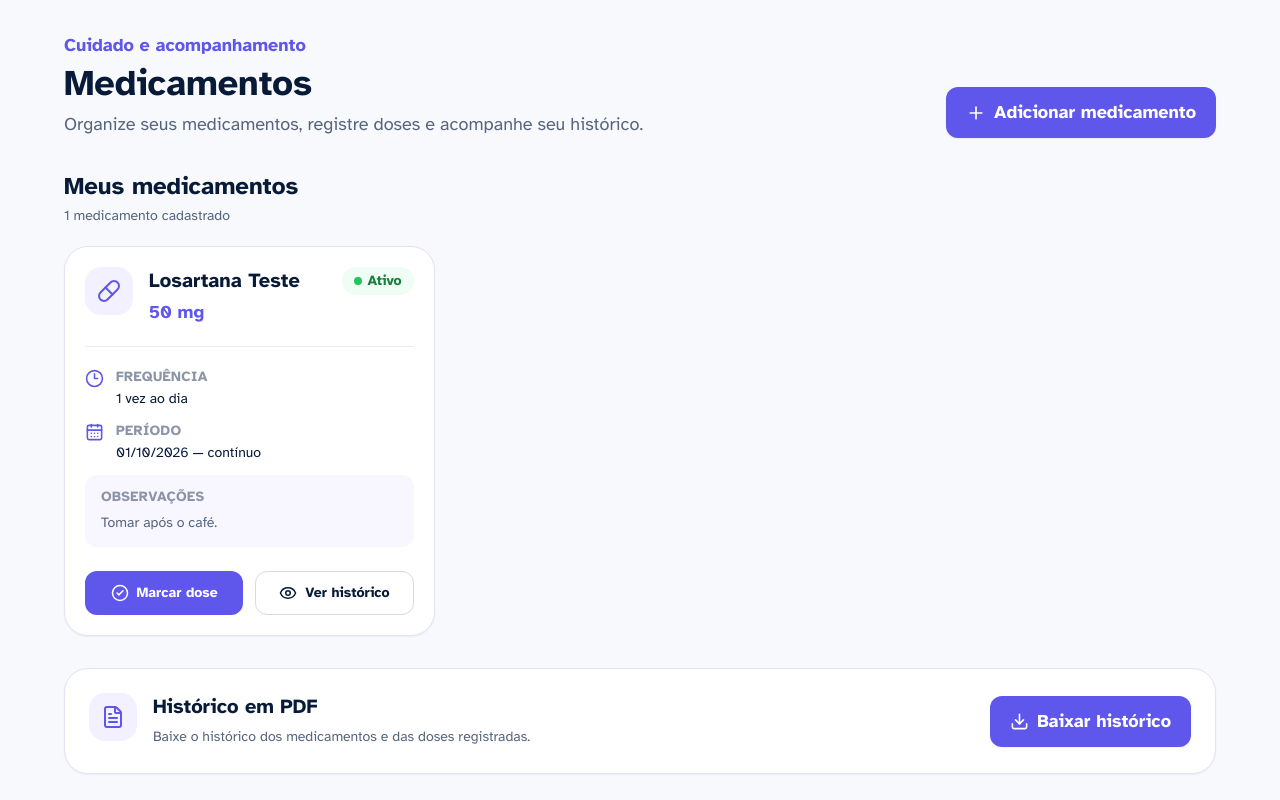
Test: Remedios - marcar dose › mantém a confirmação da dose na tela até a pessoa concluir
Click the button "Marcar dose": (164, 593) [85,571,243,615]
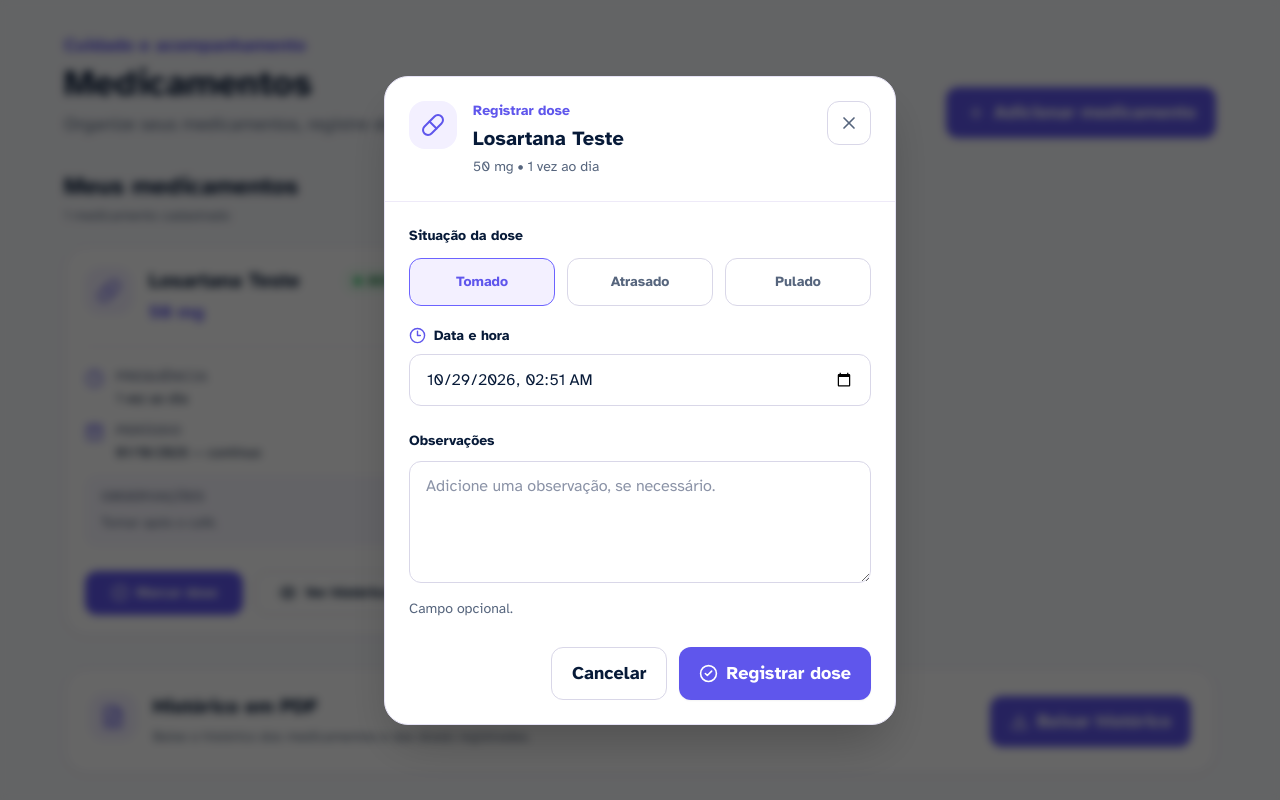
Click the button "Registrar dose": (775, 673) [680,646,871,700]
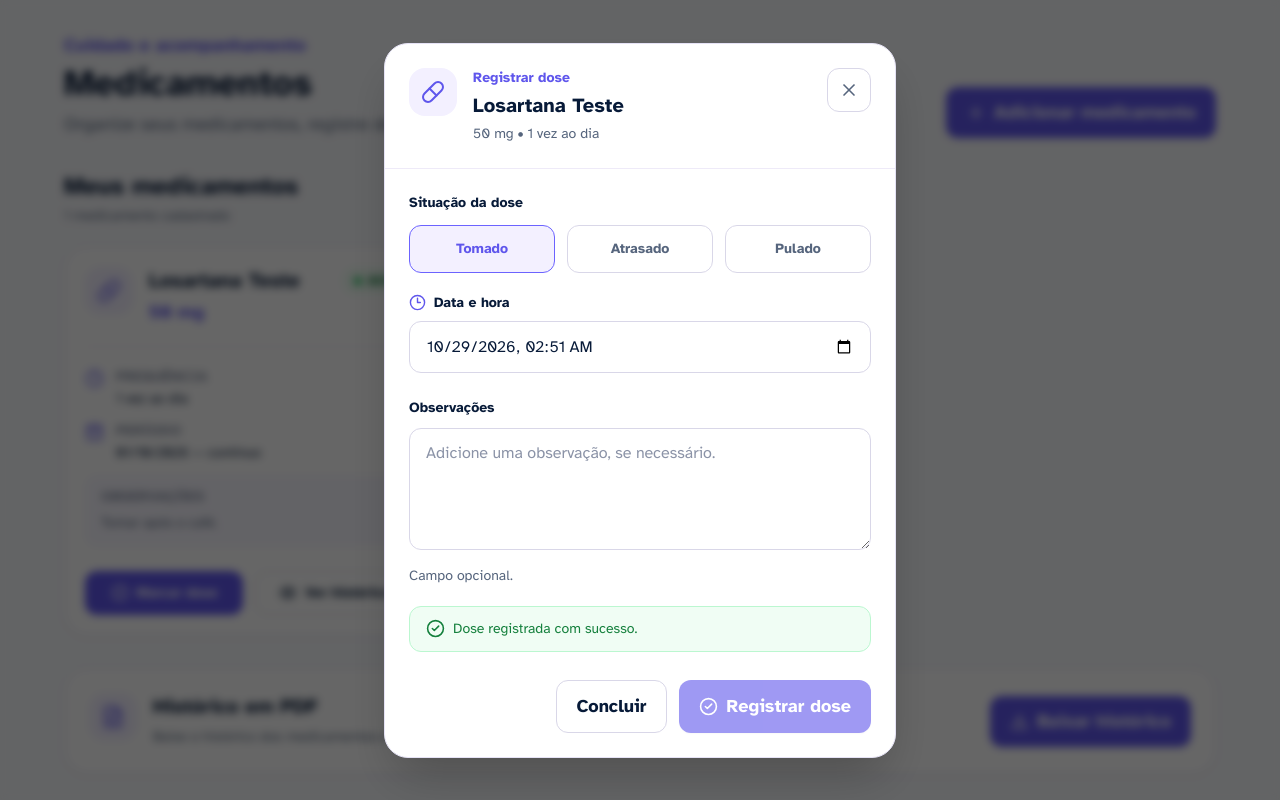
Expected: the text "Dose registrada com sucesso." is shown, [409,606,871,652]
Expected: the button "Registrar dose" is disabled, [680,680,871,732]
Click the button "Concluir": (611, 706) [556,680,667,732]
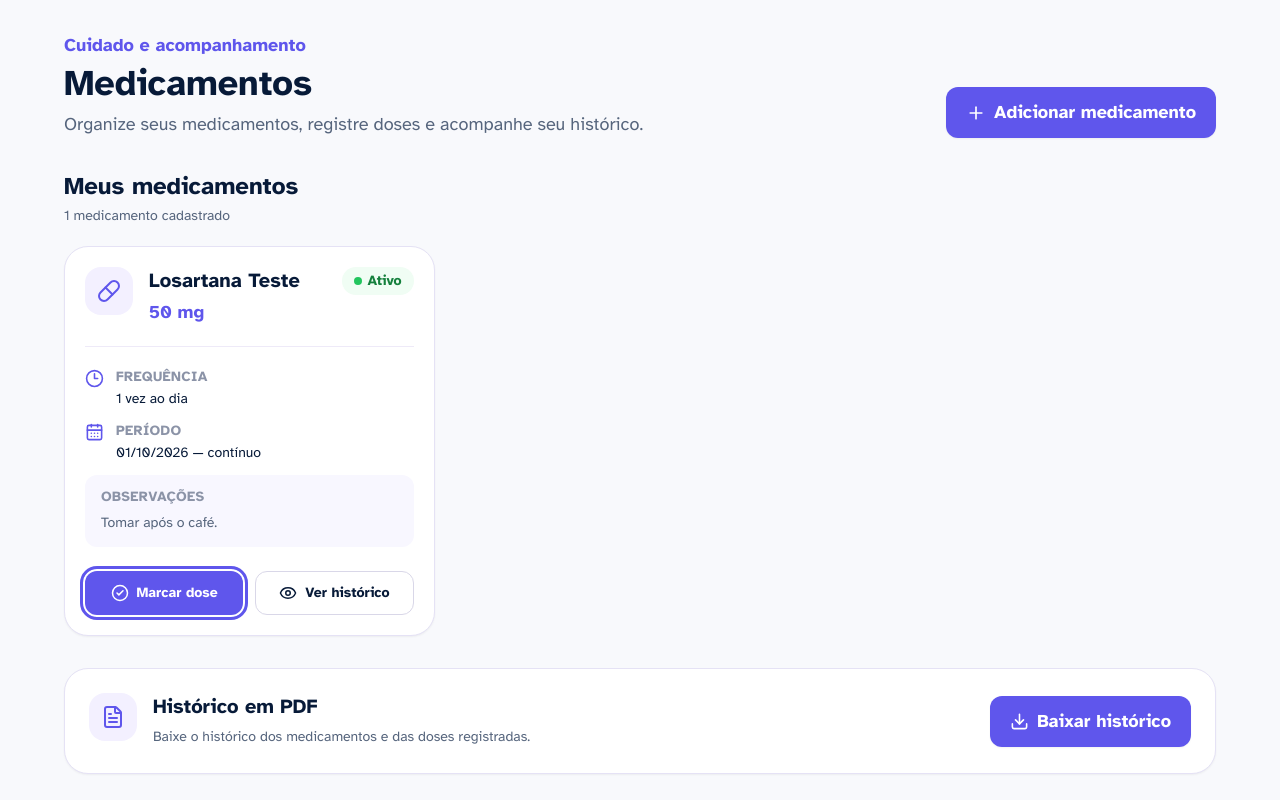
Expected: the dialog is gone
